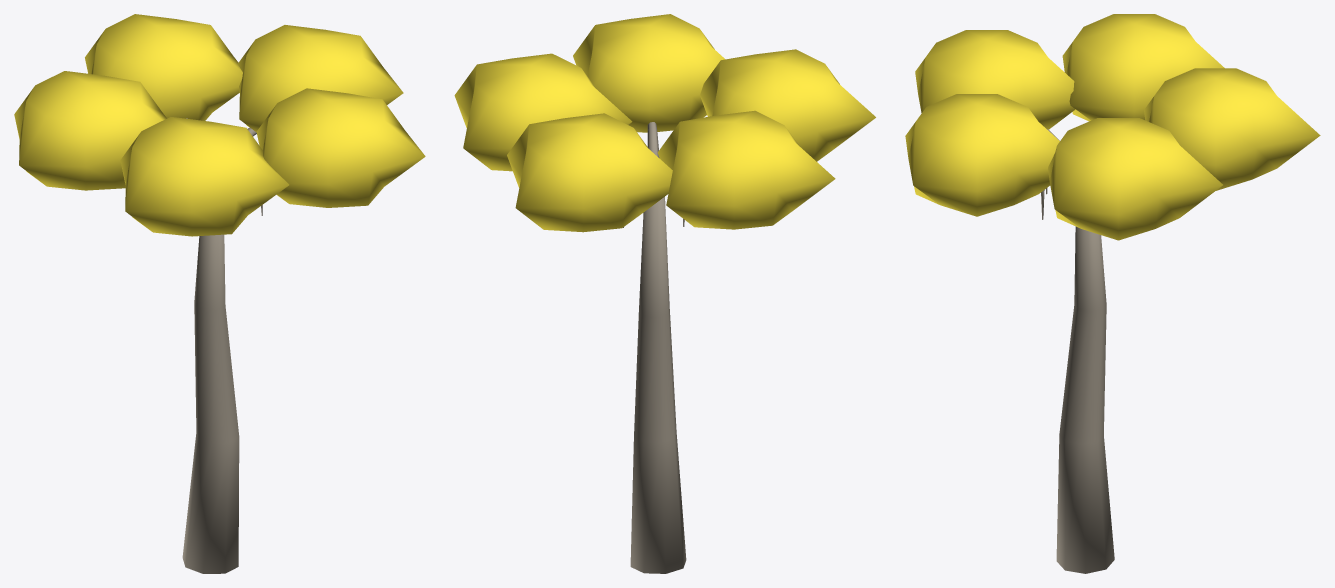
File: canopy_ancient_ginkgo.glb
The picture shows the model from 3 angles, left to right: view 1: azimuth 30°, elevation 25°; view 2: azimuth 150°, elevation 25°; view 3: azimuth 270°, elevation 25°; orthographic projection.
Visible parts, largest first — view 1: Flora_Ancient_Ginkgo; view 2: Flora_Ancient_Ginkgo; view 3: Flora_Ancient_Ginkgo.
Boxes of the visible parts, box(x1,y1,x2,y2) form: Flora_Ancient_Ginkgo: box(14, 14, 425, 573); Flora_Ancient_Ginkgo: box(454, 14, 875, 573); Flora_Ancient_Ginkgo: box(905, 14, 1320, 573).
Size of the model in its own units: 10.7 by 13.34 by 10.27.
